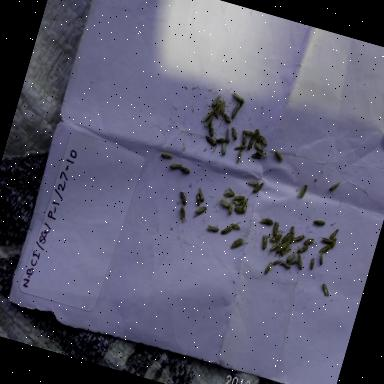pbw: (191, 201, 209, 222), (230, 88, 249, 106), (258, 230, 274, 251), (326, 177, 342, 198), (202, 132, 220, 150), (310, 216, 328, 234), (220, 182, 237, 201), (250, 178, 266, 198), (274, 238, 290, 258), (220, 125, 236, 145), (244, 132, 258, 154), (229, 234, 246, 252), (228, 218, 246, 234), (271, 148, 287, 166), (258, 213, 276, 229), (176, 190, 192, 208), (280, 228, 296, 246), (282, 248, 298, 266), (229, 100, 242, 122), (210, 90, 224, 110), (218, 140, 232, 160), (176, 204, 190, 224), (237, 196, 250, 217), (218, 195, 234, 212), (269, 230, 285, 247), (318, 281, 333, 299), (313, 249, 328, 267), (296, 182, 310, 201), (228, 123, 242, 142), (238, 129, 252, 148), (270, 219, 284, 238), (224, 198, 237, 218), (219, 222, 235, 238), (296, 242, 312, 258), (302, 234, 318, 250), (316, 240, 332, 256), (278, 242, 294, 258), (291, 231, 306, 248), (194, 186, 208, 204), (250, 128, 264, 146), (294, 253, 308, 271), (202, 222, 220, 236), (268, 238, 282, 256), (205, 120, 219, 138), (327, 225, 341, 243), (307, 254, 320, 273), (247, 148, 264, 162), (231, 203, 248, 217), (218, 110, 234, 124), (231, 190, 247, 204), (232, 140, 248, 154), (168, 160, 184, 174), (214, 132, 228, 148), (262, 260, 274, 278), (277, 258, 292, 272), (257, 133, 270, 149), (286, 225, 298, 242), (203, 113, 215, 130), (212, 98, 224, 115), (201, 108, 213, 125), (218, 98, 228, 118), (320, 234, 334, 248), (246, 176, 260, 190), (192, 192, 204, 208), (178, 163, 192, 176), (234, 148, 245, 164), (272, 255, 285, 268), (160, 150, 174, 162), (328, 234, 338, 250), (254, 149, 268, 160), (242, 127, 256, 138), (288, 256, 300, 268), (234, 197, 246, 209), (252, 141, 264, 152), (380, 129, 384, 154)
